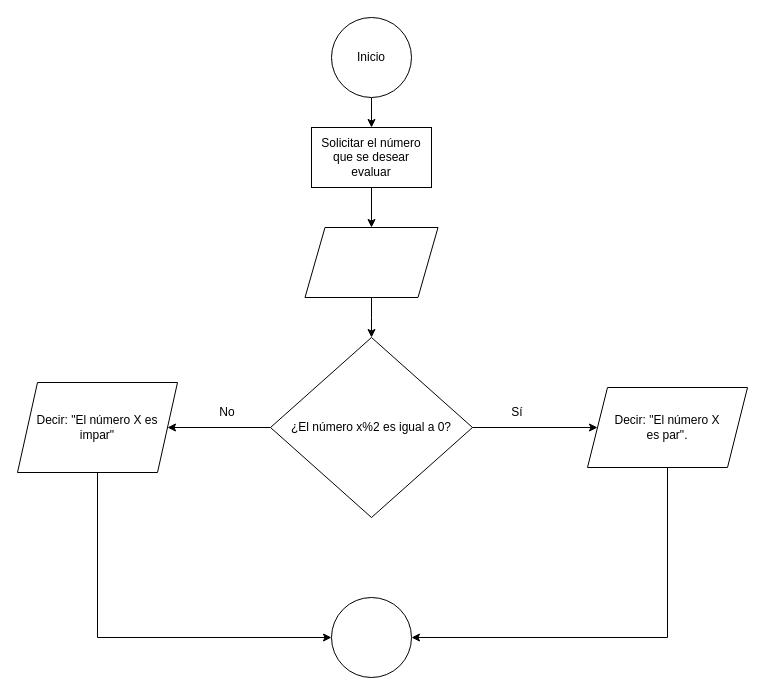
The diagram is 765 pixels wide and 695 high, and some of its shapes have lost their labels. Here are the shapes that lost their labels. From the top down, the centre of each, then its label:
At (371,262): "Ingresa un número X".
At (371,637): "Fin".
